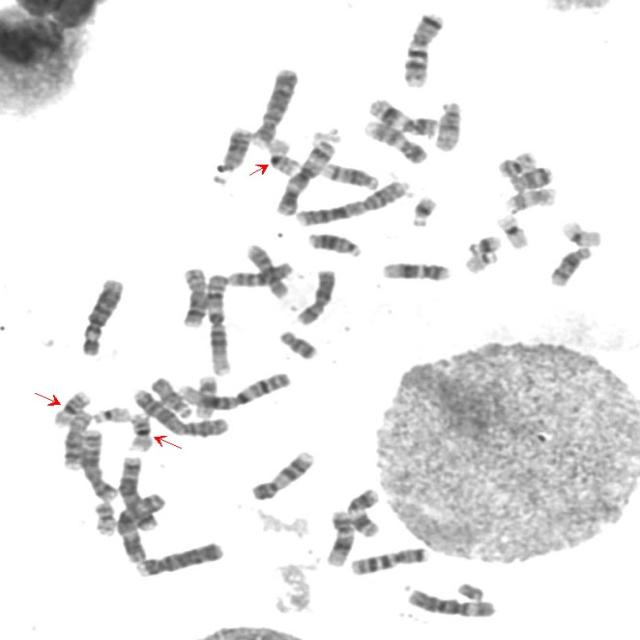A1: (174, 367, 294, 412), (200, 269, 235, 377)
A2: (291, 174, 413, 228), (128, 384, 232, 438)
A3: (272, 135, 337, 217), (112, 487, 168, 564)
B4: (248, 62, 300, 150), (131, 536, 226, 578)
B5: (113, 452, 161, 532), (75, 425, 119, 502)
C10: (241, 239, 292, 299), (223, 256, 296, 288)
C11: (363, 93, 440, 138), (342, 484, 384, 538)
C12: (321, 506, 356, 568), (377, 256, 453, 282)
C6: (76, 273, 127, 357), (403, 583, 499, 619)
C7: (397, 7, 448, 88), (346, 542, 431, 577)
C8: (57, 406, 94, 471), (177, 262, 210, 329)
C9: (247, 446, 316, 502), (360, 116, 430, 165)
D13: (213, 123, 254, 173), (304, 228, 364, 258)
D14: (545, 241, 595, 288), (317, 157, 382, 191)
D15: (147, 372, 194, 419), (429, 96, 464, 153)
E16: (48, 386, 92, 428), (124, 407, 154, 452)
E17: (501, 182, 560, 214), (190, 371, 220, 419)
E18: (275, 325, 320, 361), (506, 162, 556, 192)
F19: (492, 209, 532, 250), (557, 215, 604, 249)
F20: (493, 146, 540, 179), (89, 497, 118, 537)
G21: (407, 190, 440, 228), (463, 230, 504, 256)
G22: (460, 247, 502, 274), (88, 401, 132, 425)
X: (292, 264, 339, 326)
Y: (452, 578, 487, 601)
